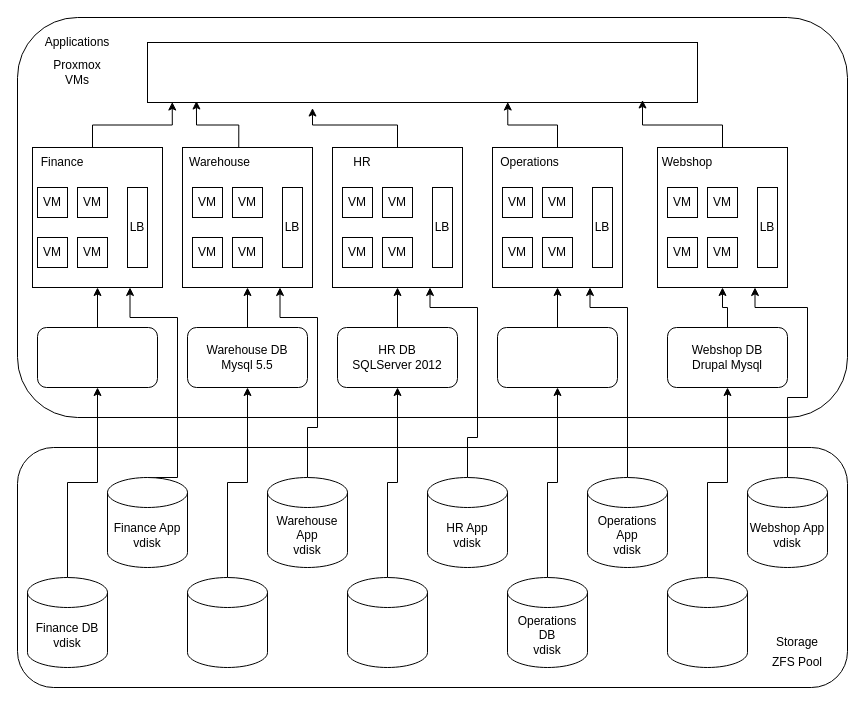
The diagram is 865 pixels wide and 705 high, and some of its shapes have lost their labels. Each missing label, with the centre of its shape:
Finance DB Mysql 5.7: point (97, 357)
HR DB vdisk: point (387, 622)
Main Proxy: point (422, 72)
Operations DB SQLServer 2012: point (557, 357)
Warehouse DB vdisk: point (227, 622)
Webshop DB vdisk: point (707, 622)
